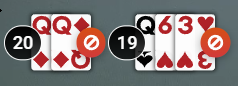3: (175, 13, 195, 37)
6: (156, 15, 175, 36)
q: (52, 15, 75, 37), (135, 14, 156, 37), (31, 15, 52, 37)
